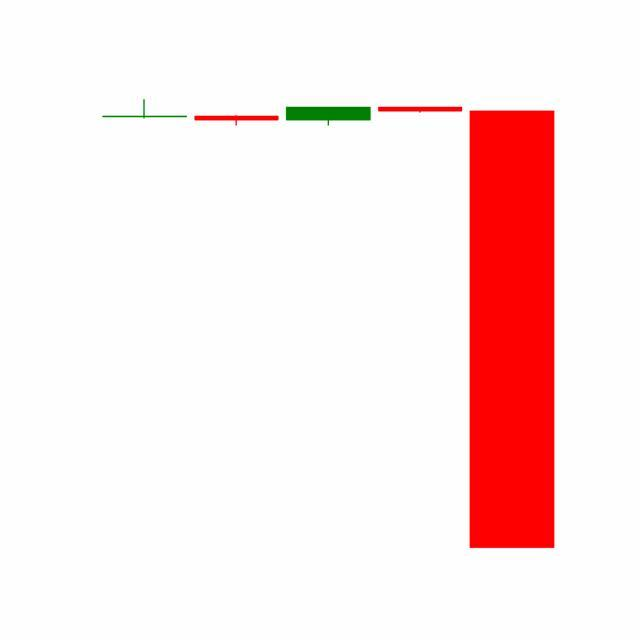Marubozu: (466, 107, 559, 553)
